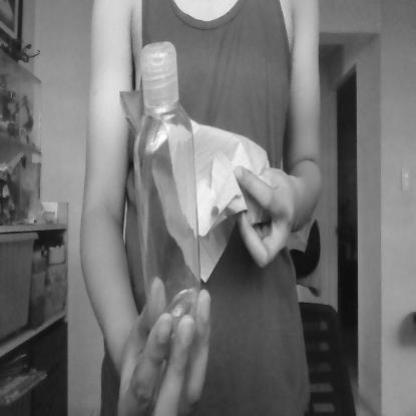Plastic Bottle: (142, 32, 199, 356)
